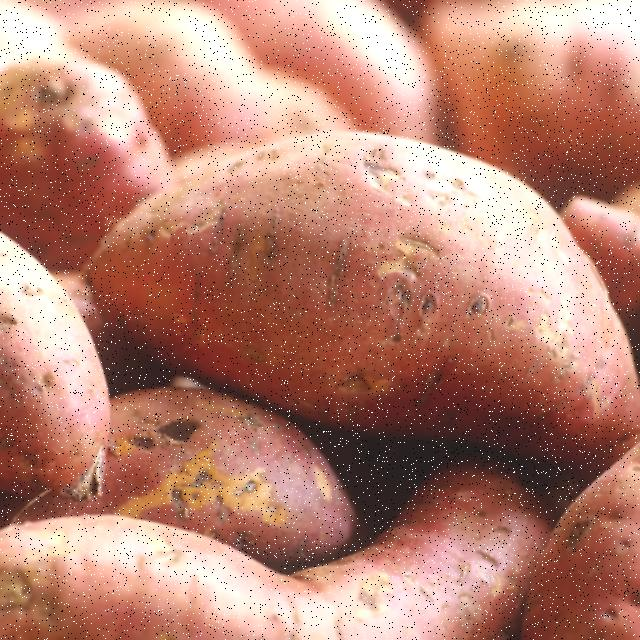Sweet Potato: (103, 90, 639, 462)
